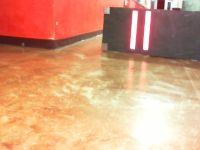switch: (130, 10, 138, 49), (143, 11, 151, 50)
